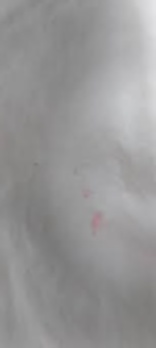lipstick: (87, 209, 105, 238), (79, 187, 93, 200)
